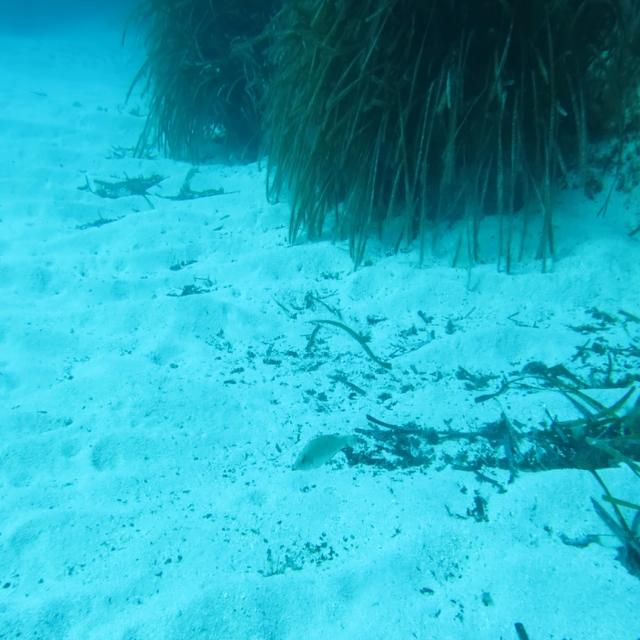BN: (294, 422, 366, 484)
vegetation: (286, 0, 639, 224), (129, 0, 305, 175), (459, 402, 640, 473)
